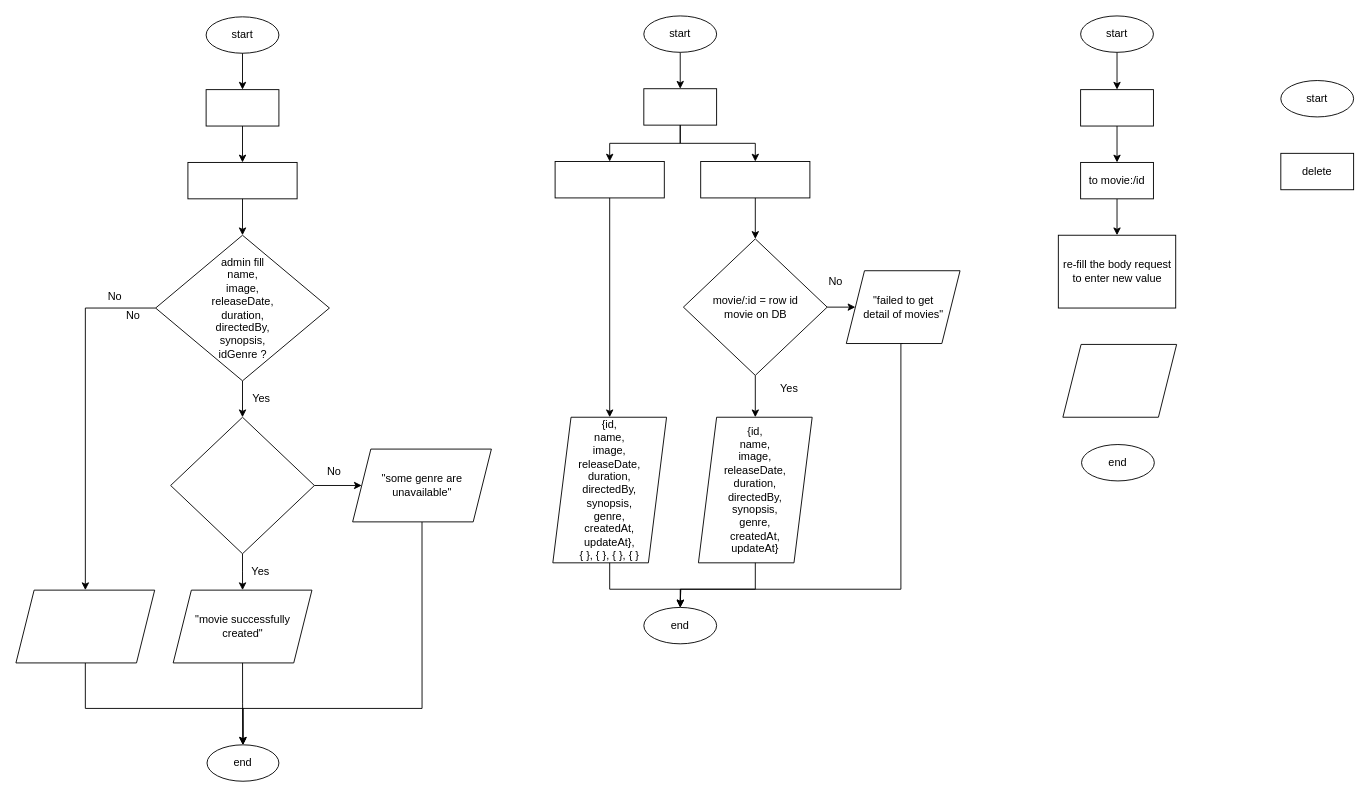
This 1370x797 diagram has some shape labels left out. The centre of each missing label's shape, as x and y in pixels:
"failed to create movie": (x=85, y=626)
"Update movie success": (x=1119, y=380)
create: (x=242, y=107)
from movie: (x=609, y=179)
from movie/:id: (x=755, y=179)
idGenre = row idGenre on tabel movie_genres: (x=242, y=485)
read: (x=680, y=106)
to movie: (x=242, y=180)
update (put): (x=1116, y=107)
